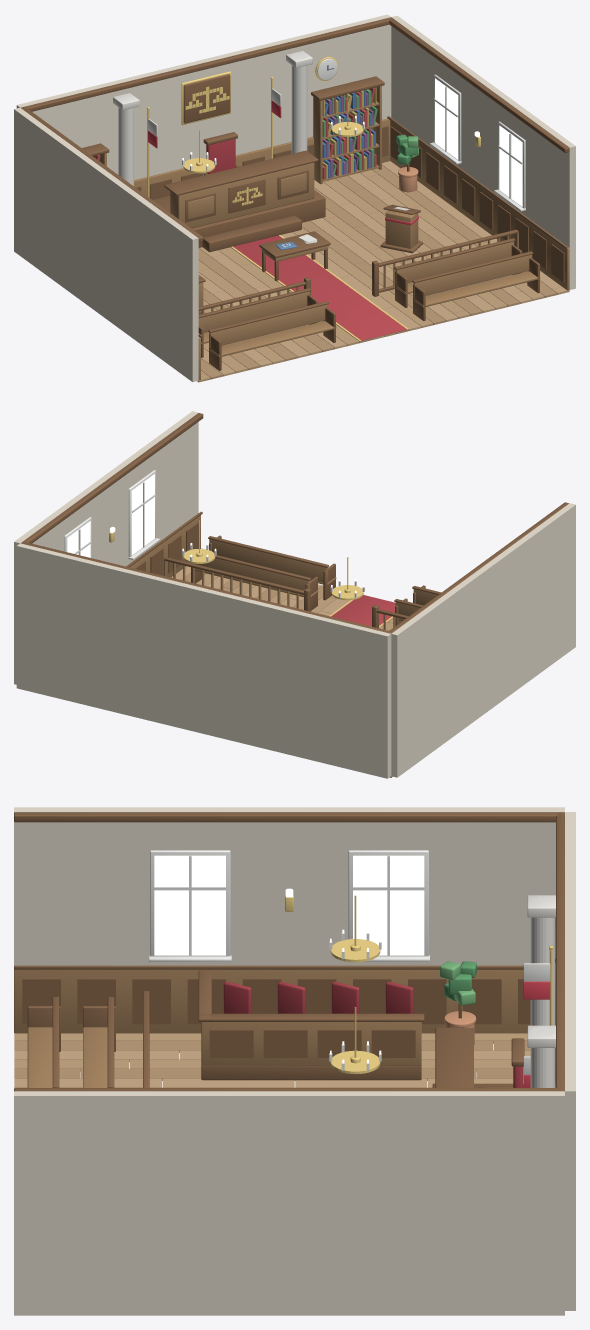
The model's file is courtroom.glb.
3 renders of one model, top to bottom at view 1: azimuth 30°, elevation 25°; view 2: azimuth 150°, elevation 25°; view 3: azimuth 270°, elevation 25°, orthographic. The views are drawn at different scales.
Visible parts, largest first — view 1: set_mesh; view 2: set_mesh; view 3: set_mesh.
Boxes of the visible parts, left/top/right/bottom form: set_mesh: left=14, top=14, right=575, bottom=382; set_mesh: left=14, top=411, right=575, bottom=778; set_mesh: left=14, top=807, right=575, bottom=1315.
Bounding box in the file's own units: 12.4 × 4.46 × 10.2.
